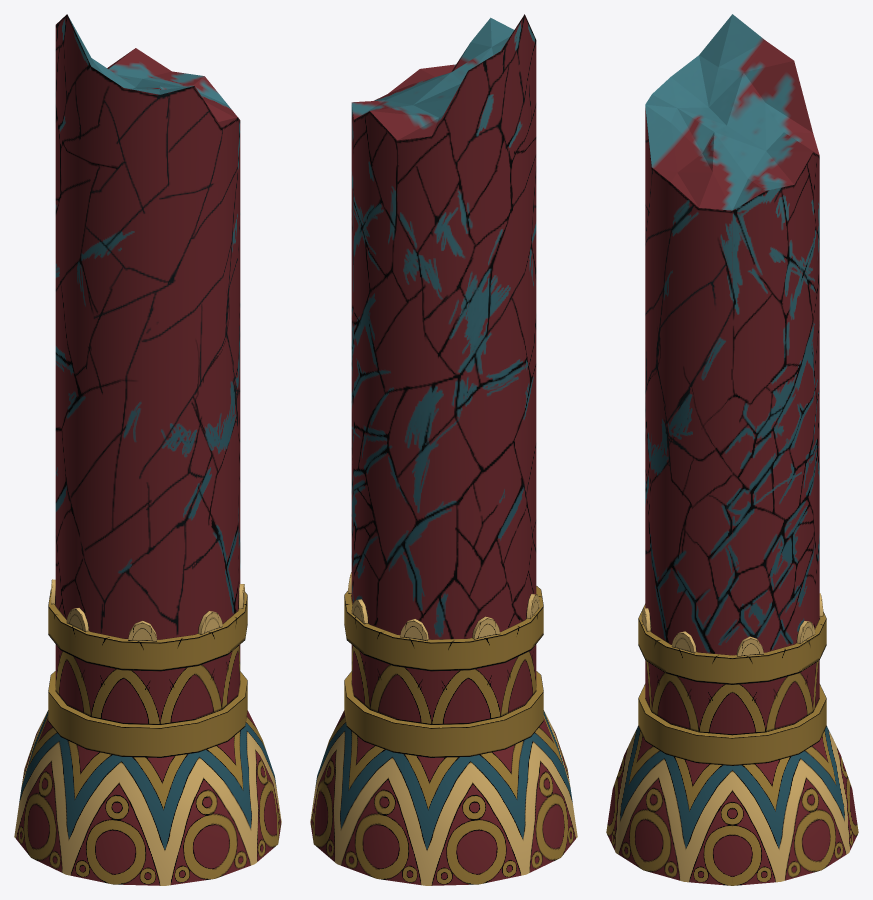
File: zhuangshi_zhuzi_01.FBX
The picture shows the model from 3 angles, left to right: view 1: azimuth 30°, elevation 25°; view 2: azimuth 150°, elevation 25°; view 3: azimuth 270°, elevation 25°; orthographic projection. The views are drawn at different scales.
Parts seen in each view (by area): view 1: zhuangshi_zhuzi_01; view 2: zhuangshi_zhuzi_01; view 3: zhuangshi_zhuzi_01.
Boxes of the visible parts, x1,y1,x2,y2 form: zhuangshi_zhuzi_01: (14, 14, 281, 885); zhuangshi_zhuzi_01: (310, 14, 577, 885); zhuangshi_zhuzi_01: (606, 14, 858, 885).
Bounding box in the file's own units: 0.9034 × 3.09 × 0.9034.
1 material, 1 textured.
